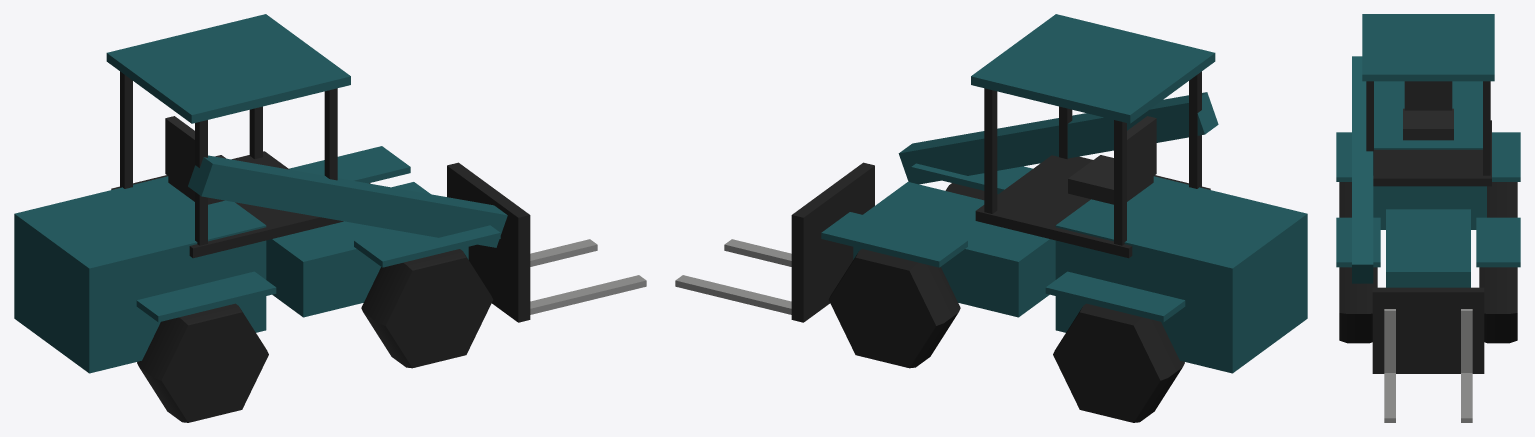
File: SM_Prop_farm_loader_0_LOD2.glb
3 views of the same model, side by side, from view 1: azimuth 30°, elevation 25°; view 2: azimuth 150°, elevation 25°; view 3: azimuth 270°, elevation 25° (orthographic). The views are drawn at different scales.
Parts seen in each view (by area): view 1: SM_Prop_farm_loader_0_LOD2; view 2: SM_Prop_farm_loader_0_LOD2; view 3: SM_Prop_farm_loader_0_LOD2.
Part boxes in pixels (<box>): SM_Prop_farm_loader_0_LOD2: <box>14,14,646,422</box>; SM_Prop_farm_loader_0_LOD2: <box>675,14,1307,422</box>; SM_Prop_farm_loader_0_LOD2: <box>1336,14,1520,422</box>.
Size of the model in its own units: 4.8 by 2.41 by 1.74.
